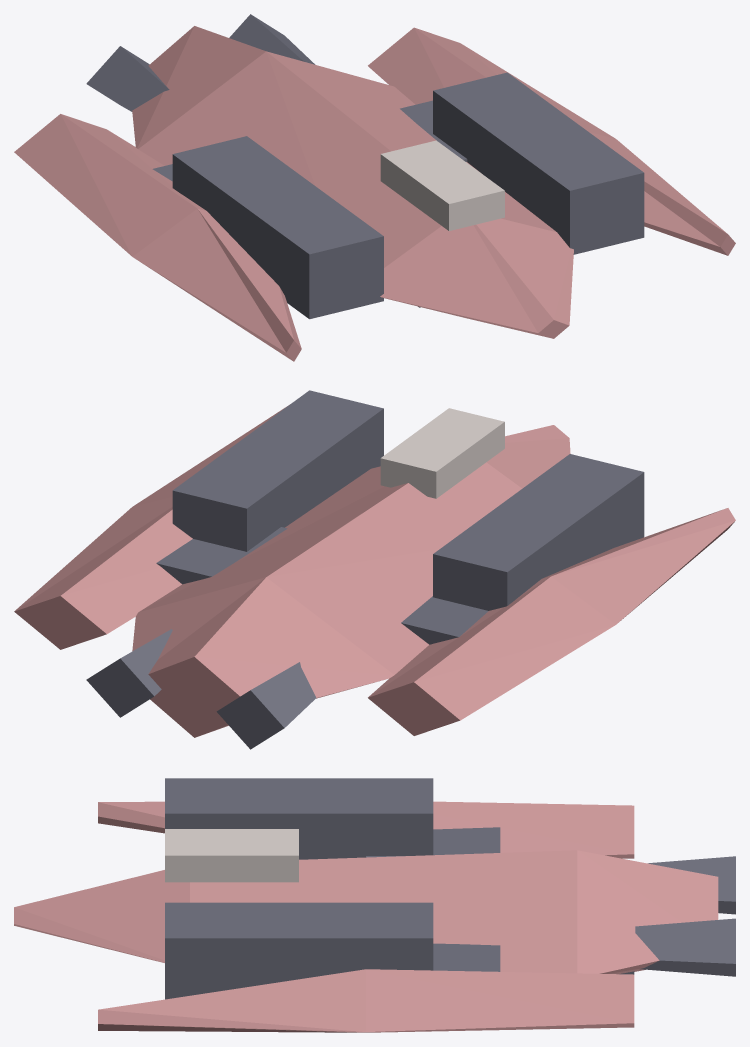
3 renders of one model, top to bottom at view 1: azimuth 30°, elevation 25°; view 2: azimuth 150°, elevation 25°; view 3: azimuth 270°, elevation 25°, orthographic. The views are drawn at different scales.
Bounding box in the file's own units: 3.56 × 1.01 × 4.69.
